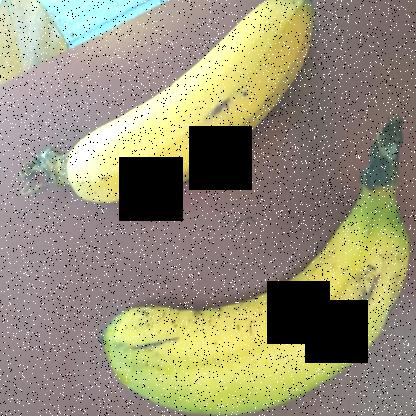freshripe: (54, 0, 321, 223)
ripe: (87, 188, 413, 415)
